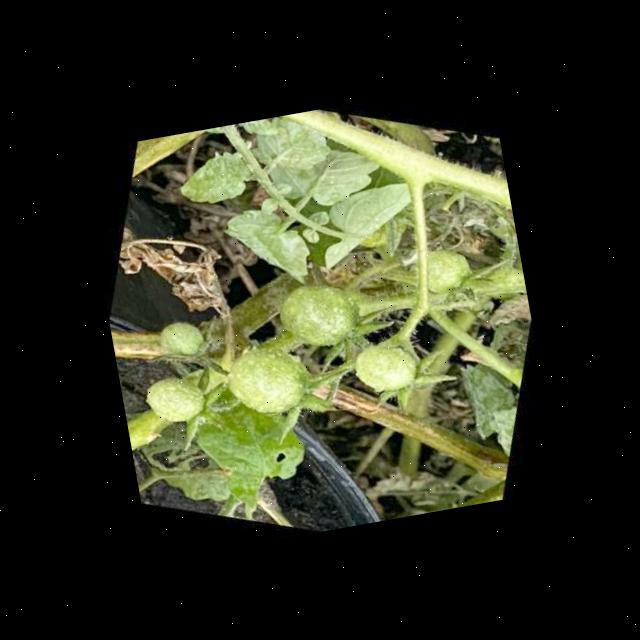tomato: (264, 264, 375, 364), (217, 332, 322, 430), (342, 329, 428, 406), (400, 234, 480, 309), (136, 365, 214, 436), (154, 315, 213, 369)
